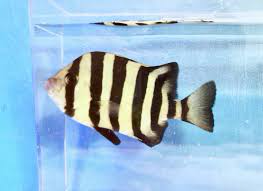azi: (46, 52, 225, 147)
